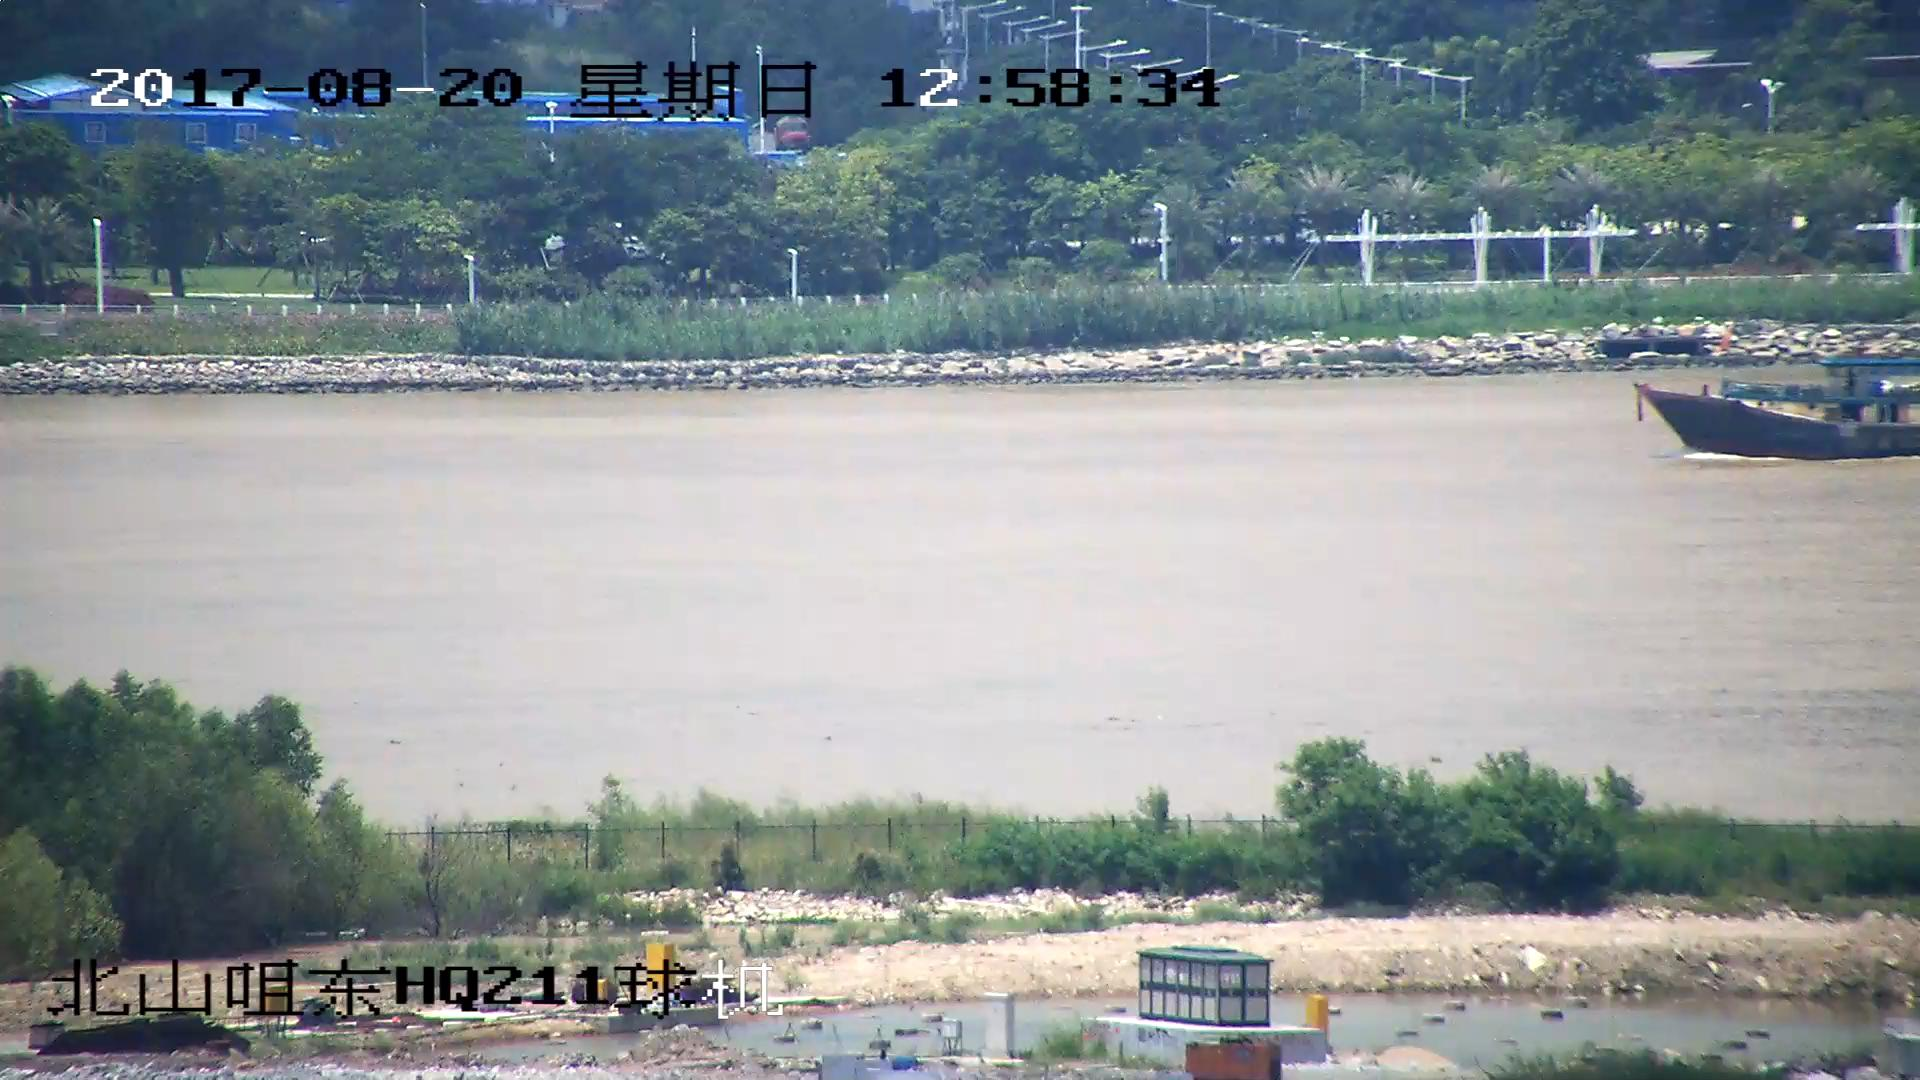fishing boat: (1640, 356, 1920, 462)
